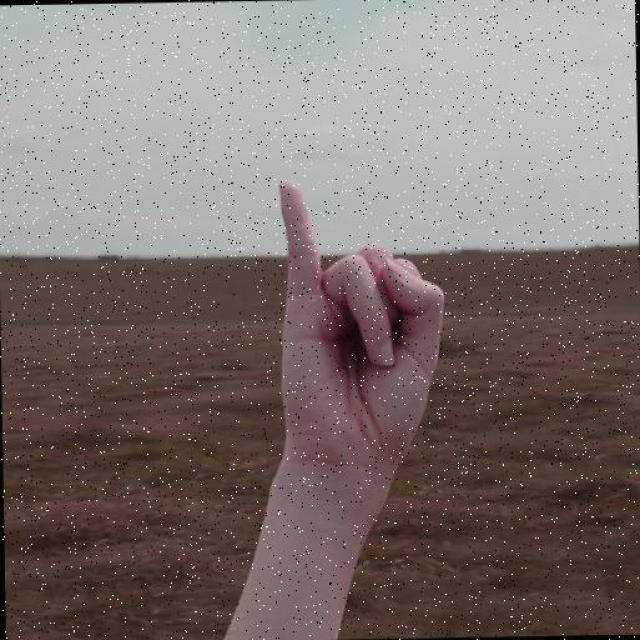I: (272, 175, 453, 485)
